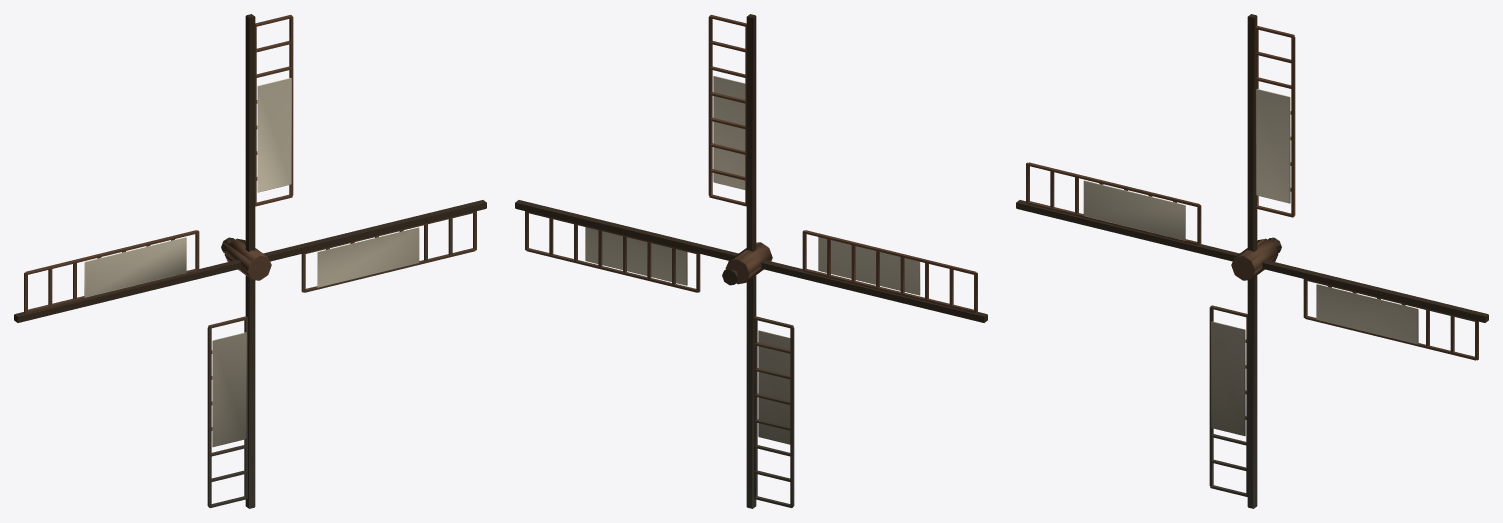
Rendered from windmill_blades.glb.
3 views of the same model, side by side, from view 1: azimuth 30°, elevation 25°; view 2: azimuth 150°, elevation 25°; view 3: azimuth 330°, elevation 25° (orthographic).
Visible parts, largest first — view 1: windmill_blades; view 2: windmill_blades; view 3: windmill_blades.
Part boxes in pixels (x1,y1,x2,y2): windmill_blades: (14,14,486,508); windmill_blades: (515,14,987,508); windmill_blades: (1016,14,1488,508).
Size of the model in its own units: 11.5 by 11.5 by 1.33.
